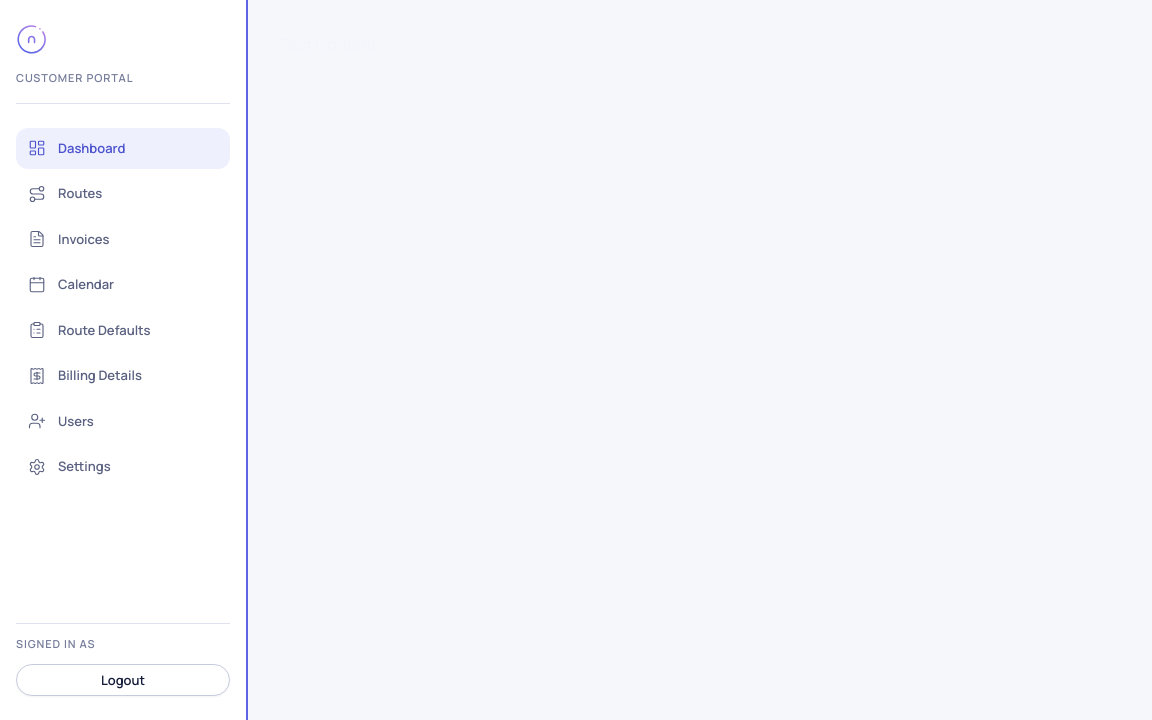
Customer Session Management Integration › shows logout confirmation dialog when logout is clicked
Click the button "Logout": (123, 680) x1=16 y1=664 x2=230 y2=696
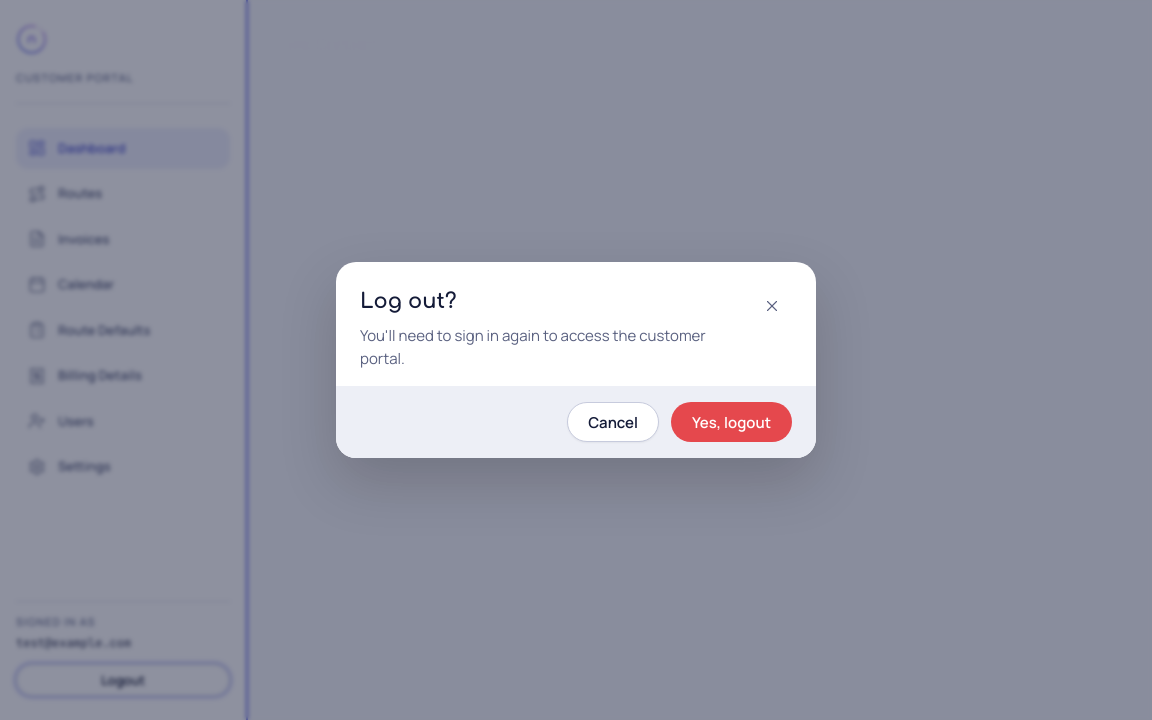
expect the text "Log out?" is shown: met, box x1=360 y1=289 x2=456 y2=313
